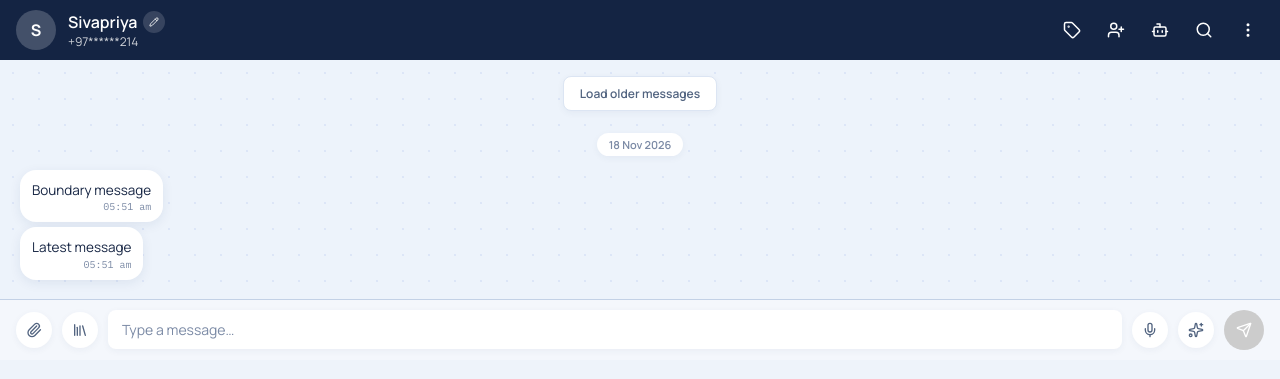
ChatWindow header — tag + assign quick-actions › keeps the newest messages visible when older history is loaded
Expected: the text "Latest message" is shown, [32,237,132,258]
Click the button "Load older messages" at (640, 94), box [563,76,717,111]
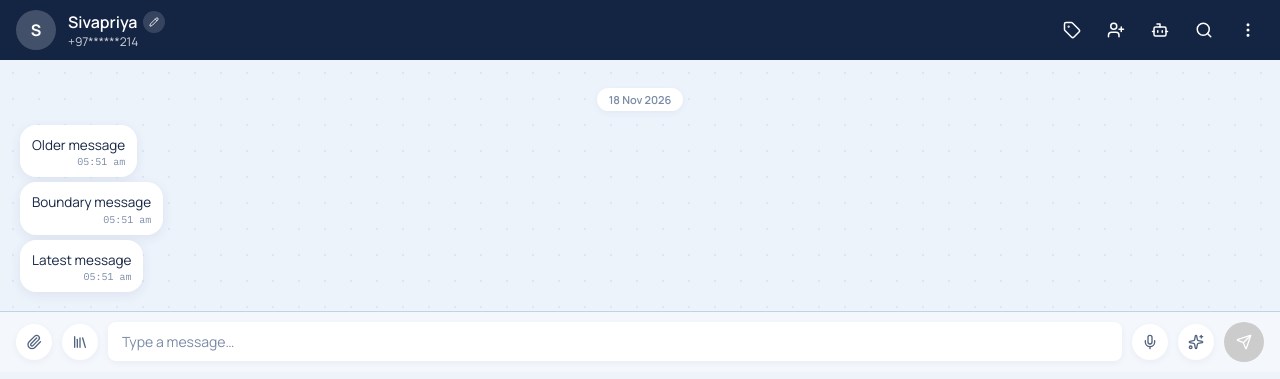
Expected: the text "Older message" is shown, [32,135,125,155]
Result: the text "Boundary message" is shown once at [32,192,151,213]
